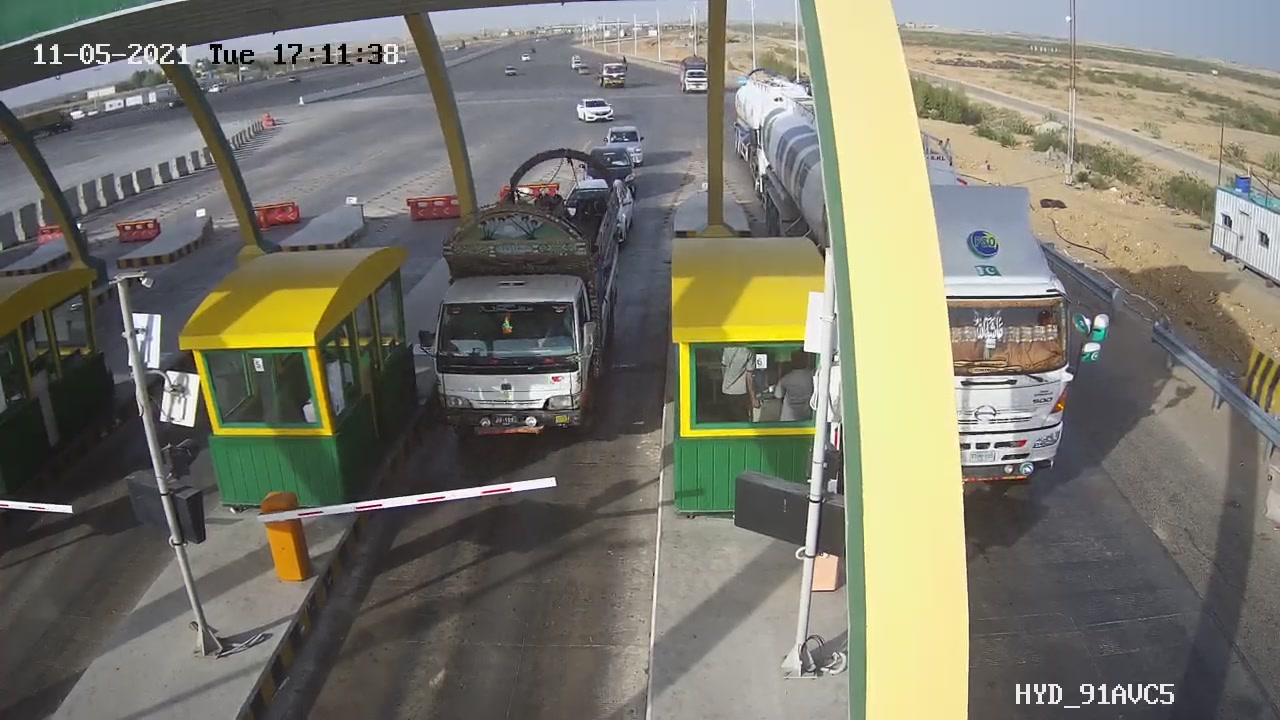F5: (412, 143, 653, 464)
